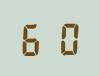six: (19, 20, 48, 56)
zero: (49, 20, 78, 55)
